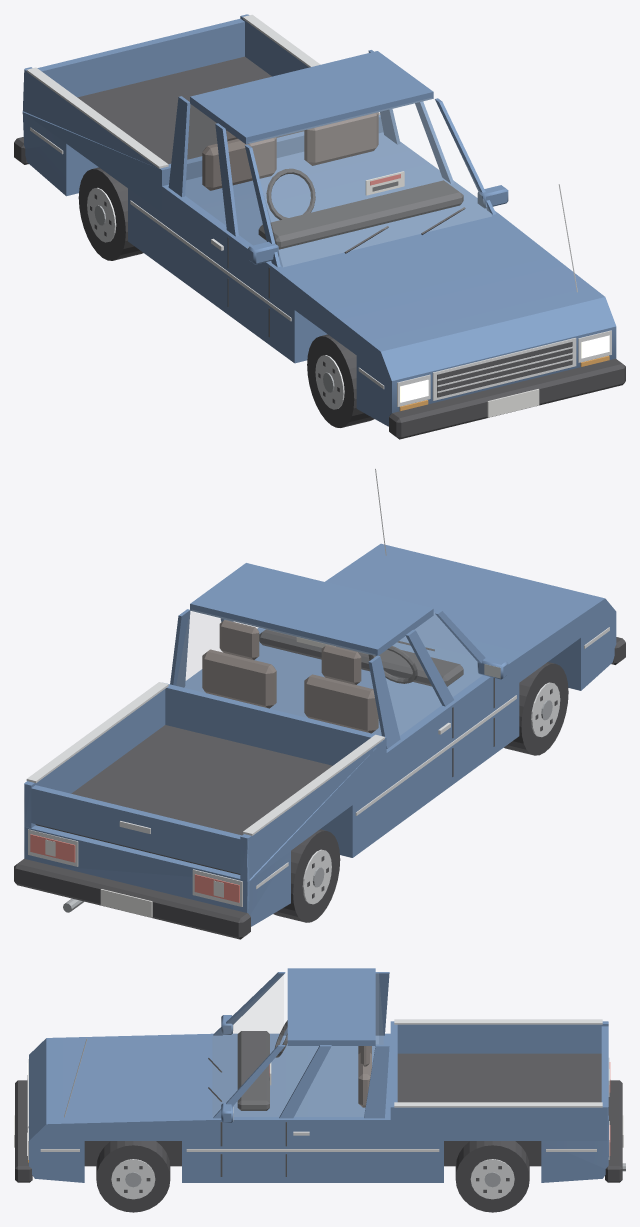
The model's file is car_pickup_b.glb.
3 views of the same model, one above another, from view 1: azimuth 30°, elevation 25°; view 2: azimuth 150°, elevation 25°; view 3: azimuth 270°, elevation 25° (orthographic). The views are drawn at different scales.
Parts seen in each view (by area): view 1: car_pickup_b_car_b, car_pickup_b_glass, car_pickup_b_dark, car_pickup_b_rubber, car_pickup_b_chrome, car_pickup_b_vinyl, car_pickup_b_lamp_glass, car_pickup_b_paint_w; view 2: car_pickup_b_car_b, car_pickup_b_glass, car_pickup_b_dark, car_pickup_b_rubber, car_pickup_b_vinyl, car_pickup_b_chrome, car_pickup_b_neon_r, car_pickup_b_paint_w; view 3: car_pickup_b_car_b, car_pickup_b_dark, car_pickup_b_glass, car_pickup_b_rubber, car_pickup_b_chrome, car_pickup_b_vinyl, car_pickup_b_steel.
Boxes of the visible parts, <box> form: car_pickup_b_car_b: <box>22,14,616,426</box>; car_pickup_b_glass: <box>186,98,490,266</box>; car_pickup_b_dark: <box>77,56,572,403</box>; car_pickup_b_rubber: <box>14,137,625,439</box>; car_pickup_b_chrome: <box>26,14,611,409</box>; car_pickup_b_vinyl: <box>202,112,378,190</box>; car_pickup_b_lamp_glass: <box>400,335,609,402</box>; car_pickup_b_paint_w: <box>487,389,539,417</box>; car_pickup_b_car_b: <box>24,543,616,926</box>; car_pickup_b_glass: <box>177,610,481,734</box>; car_pickup_b_dark: <box>35,629,557,898</box>; car_pickup_b_rubber: <box>14,637,625,939</box>; car_pickup_b_vinyl: <box>202,620,378,733</box>; car_pickup_b_chrome: <box>26,468,609,906</box>; car_pickup_b_neon_r: <box>30,834,239,902</box>; car_pickup_b_paint_w: <box>45,839,223,917</box>; car_pickup_b_car_b: <box>29,968,608,1182</box>; car_pickup_b_dark: <box>27,1020,601,1192</box>; car_pickup_b_glass: <box>213,974,382,1116</box>; car_pickup_b_rubber: <box>15,1080,622,1212</box>; car_pickup_b_chrome: <box>27,1019,609,1199</box>; car_pickup_b_vinyl: <box>358,1046,371,1107</box>; car_pickup_b_steel: <box>125,1163,625,1187</box>.
Bounding box in the file's own units: 2 × 1.6 × 5.28.
